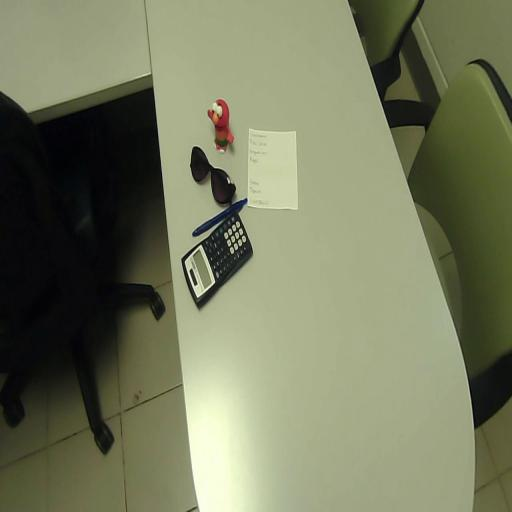pen: (192, 198, 247, 236)
